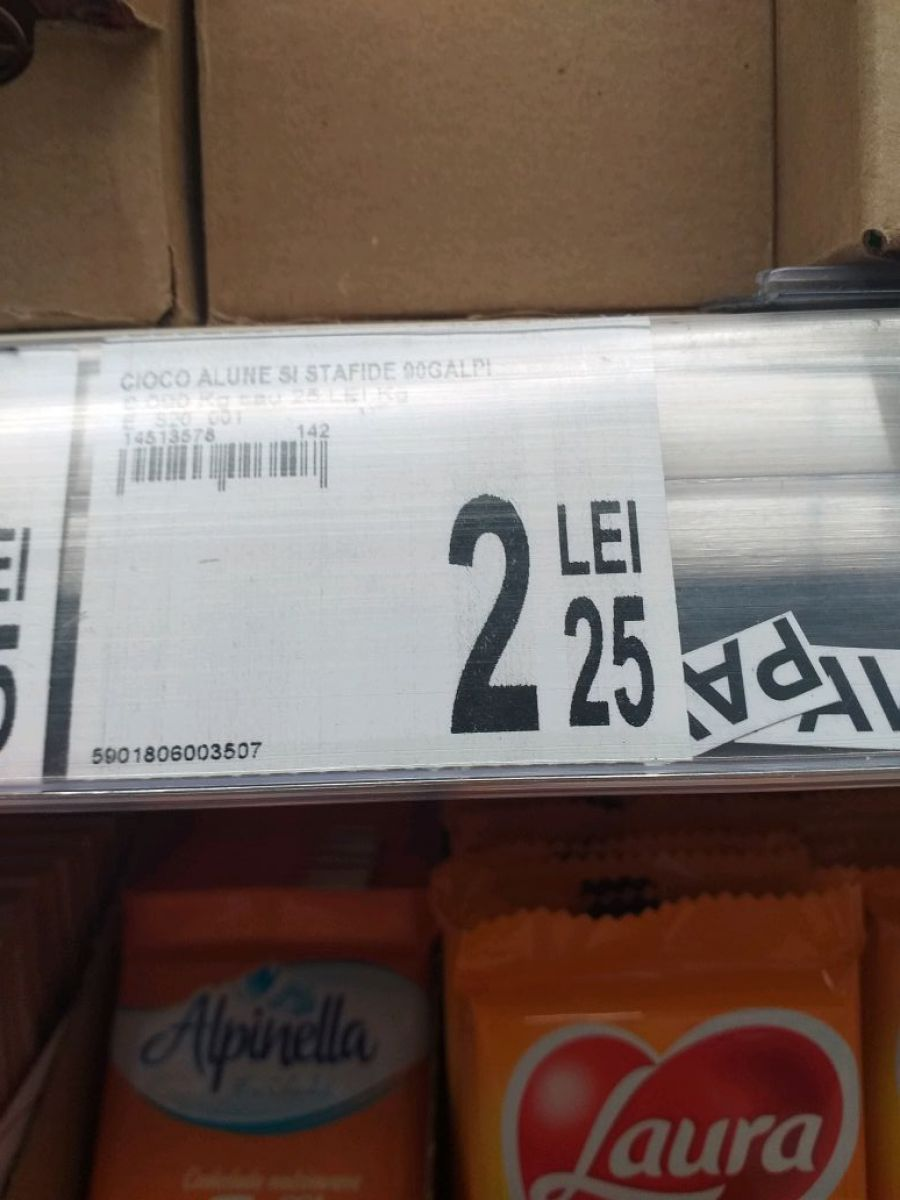price_bani: (558, 581, 662, 742)
price_lei: (435, 485, 543, 746)
price_tag: (62, 304, 709, 802)
product_id: (86, 735, 284, 781)
product_name: (104, 349, 512, 399)
